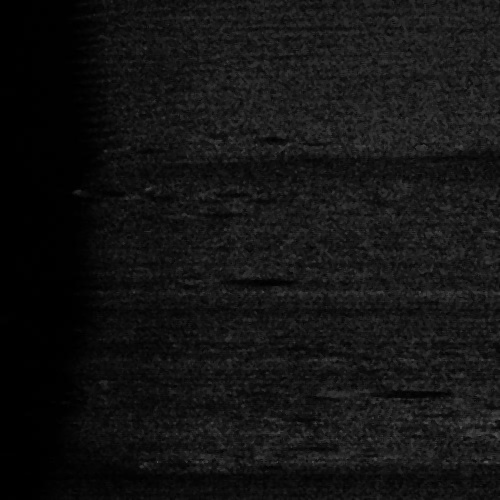object: (156, 276, 229, 283), (351, 389, 414, 396)
shadow: (193, 276, 290, 283), (383, 389, 446, 396)
